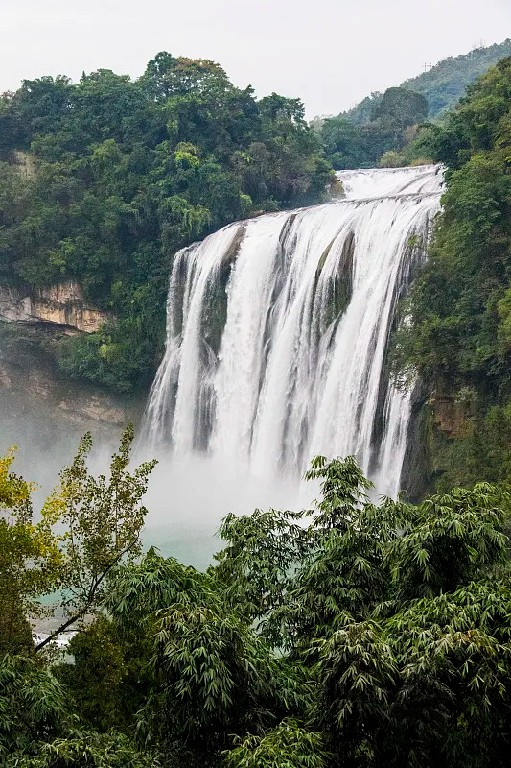Huangguoshu: (139, 164, 446, 501)
